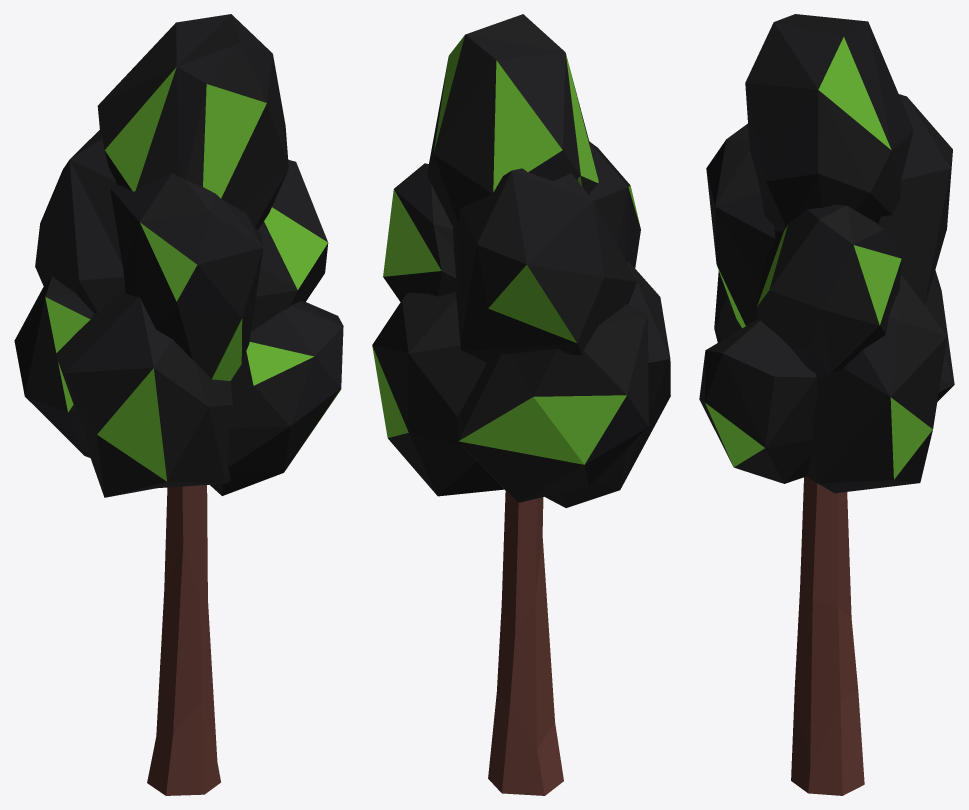
Rendered from Poplar_medium.fbx.
3 views of the same model, side by side, from view 1: azimuth 30°, elevation 25°; view 2: azimuth 150°, elevation 25°; view 3: azimuth 270°, elevation 25° (orthographic). The views are drawn at different scales.
Visible parts, largest first — view 1: poplar_crown_Medium, poplar_trunk_Medium; view 2: poplar_crown_Medium, poplar_trunk_Medium; view 3: poplar_crown_Medium, poplar_trunk_Medium.
Boxes of the visible parts, <box> form: poplar_crown_Medium: <box>14,14,343,497</box>; poplar_trunk_Medium: <box>147,485,220,795</box>; poplar_crown_Medium: <box>372,14,670,507</box>; poplar_trunk_Medium: <box>488,491,563,795</box>; poplar_crown_Medium: <box>699,14,954,493</box>; poplar_trunk_Medium: <box>791,476,864,795</box>.
Bounding box in the file's own units: 90.49 × 235 × 70.31.
